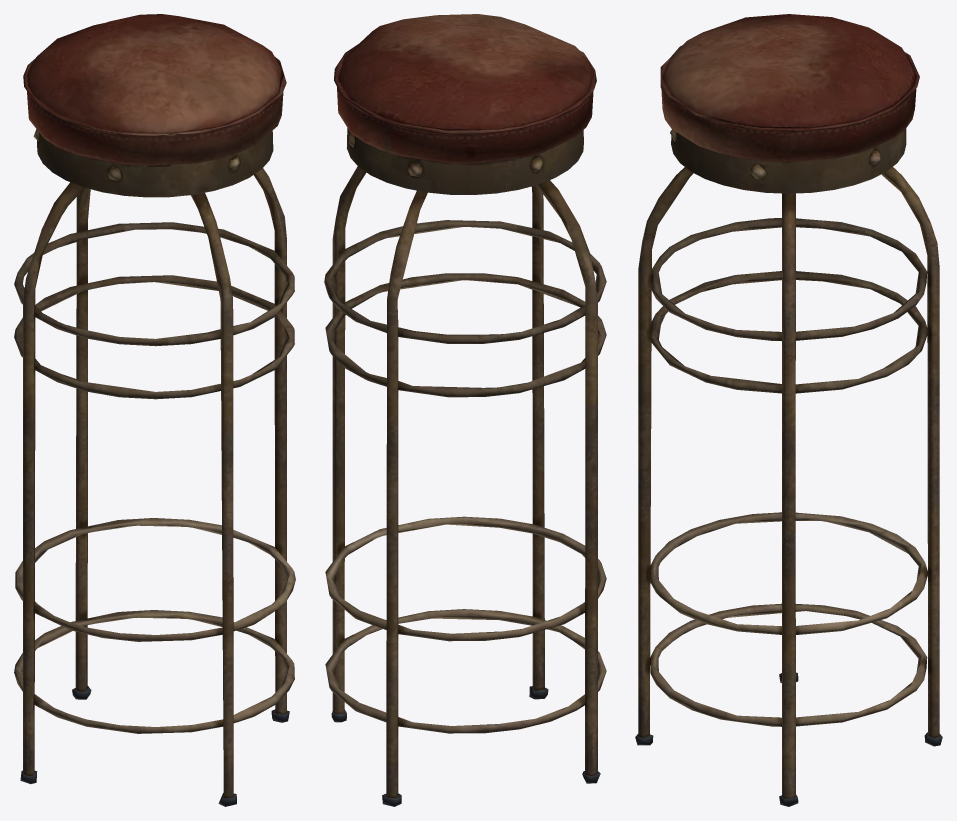
The model's file is metal_stool_01.glb.
3 views of the same model, side by side, from view 1: azimuth 30°, elevation 25°; view 2: azimuth 150°, elevation 25°; view 3: azimuth 270°, elevation 25° (orthographic).
Parts seen in each view (by area): view 1: metal_stool_01; view 2: metal_stool_01; view 3: metal_stool_01.
Part boxes in pixels (left/top/right/bottom): metal_stool_01: left=14, top=14, right=295, bottom=806; metal_stool_01: left=324, top=14, right=606, bottom=806; metal_stool_01: left=635, top=14, right=942, bottom=806.
Size of the model in its own units: 0.3506 by 0.8818 by 0.353.
1 material, 1 textured.
